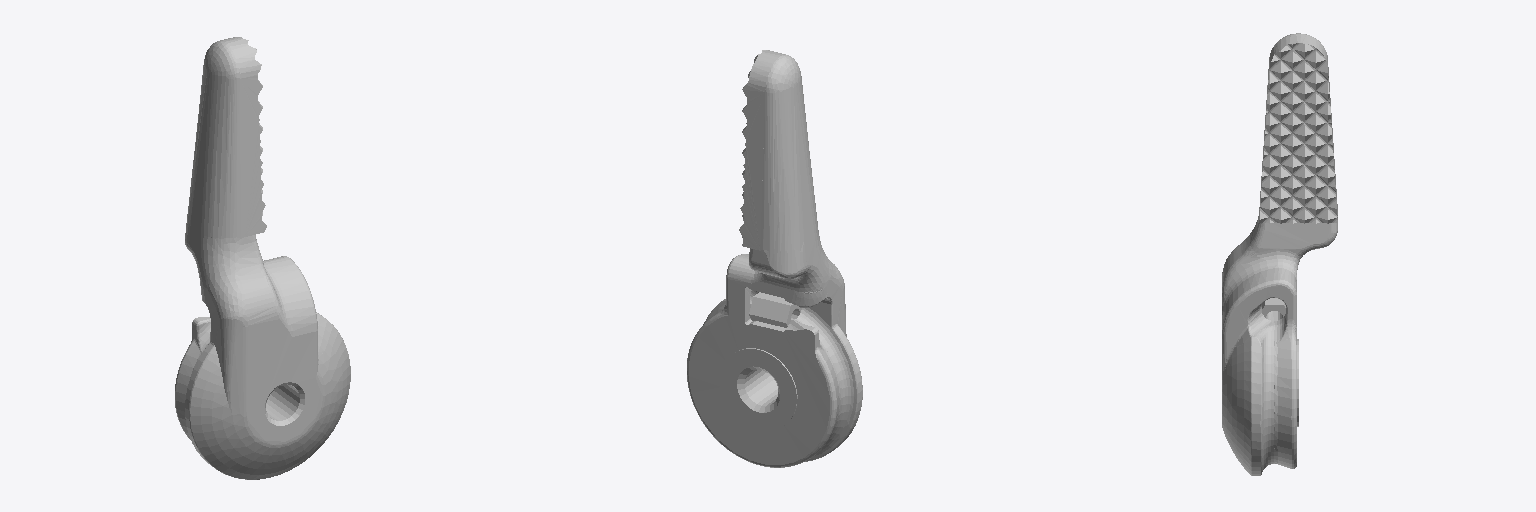
File: tool gripper left link.OBJ
3 views of the same model, side by side, from view 1: azimuth 30°, elevation 25°; view 2: azimuth 150°, elevation 25°; view 3: azimuth 270°, elevation 25° (orthographic).
Parts seen in each view (by area): view 1: /ambf/env/psm2/tool_gripper_left_link; view 2: /ambf/env/psm2/tool_gripper_left_link; view 3: /ambf/env/psm2/tool_gripper_left_link.
Boxes of the visible parts, <box> form: /ambf/env/psm2/tool_gripper_left_link: <box>175,37,350,479</box>; /ambf/env/psm2/tool_gripper_left_link: <box>687,50,862,467</box>; /ambf/env/psm2/tool_gripper_left_link: <box>1222,33,1337,475</box>.
Bounding box in the file's own units: 0.0048 × 0.0121 × 0.003.